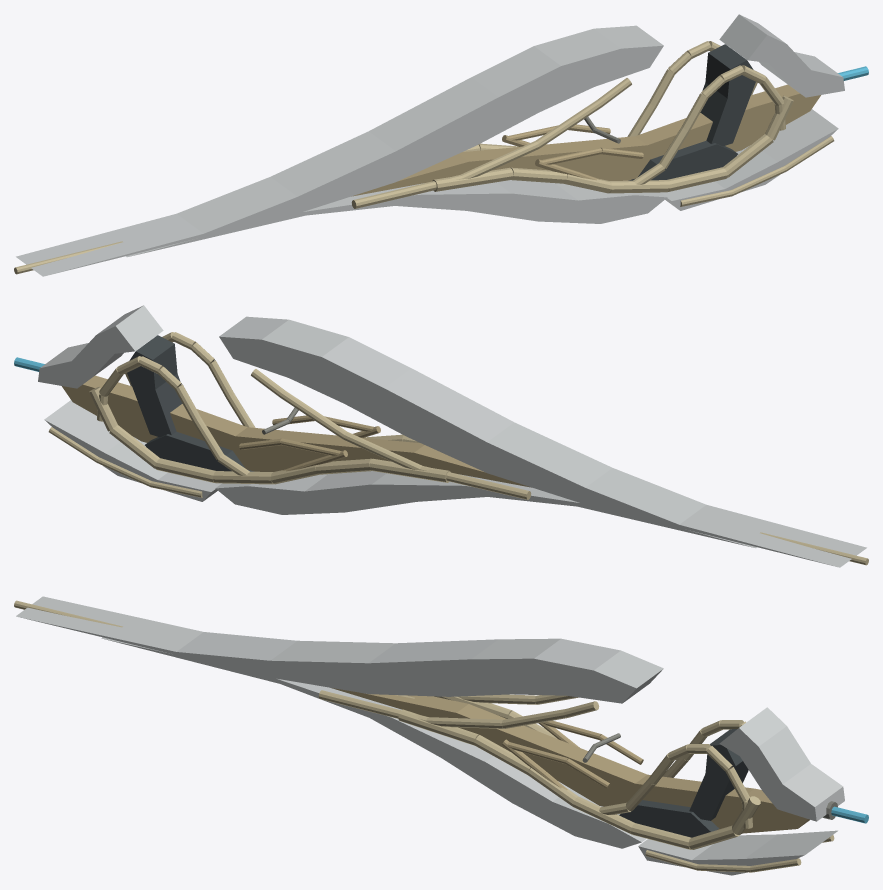
Rendered from ruch_white_flight.glb.
3 views of the same model, one above another, from view 1: azimuth 30°, elevation 25°; view 2: azimuth 150°, elevation 25°; view 3: azimuth 330°, elevation 25° (orthographic).
Visible parts, largest first — view 1: upper_blade_0, spine_3, lower_blade_1, gold_frame_8, rear_fairing_6, aft_lower_7, cockpit_arch_9, seat_back_5, seat_base_4, structural_braces_10, rear_rail_11; view 2: upper_blade_0, spine_3, lower_blade_1, gold_frame_8, rear_fairing_6, aft_lower_7, cockpit_arch_9, seat_back_5, seat_base_4, structural_braces_10, rear_rail_11; view 3: upper_blade_0, spine_3, gold_frame_8, lower_blade_1, rear_fairing_6, aft_lower_7, cockpit_arch_9, seat_back_5, structural_braces_10, seat_base_4, rear_rail_11.
Boxes of the visible parts, x1,y1,x2,y2 form: upper_blade_0: [16, 25, 663, 276]; spine_3: [351, 84, 820, 196]; lower_blade_1: [126, 180, 667, 257]; gold_frame_8: [351, 78, 793, 208]; rear_fairing_6: [719, 14, 844, 97]; aft_lower_7: [661, 109, 838, 210]; cockpit_arch_9: [627, 41, 785, 184]; seat_back_5: [700, 44, 755, 146]; seat_base_4: [628, 140, 737, 180]; structural_braces_10: [502, 124, 643, 180]; rear_rail_11: [680, 136, 834, 206]; upper_blade_0: [219, 316, 866, 567]; spine_3: [62, 375, 531, 487]; lower_blade_1: [215, 471, 756, 548]; gold_frame_8: [89, 369, 531, 499]; rear_fairing_6: [38, 305, 163, 388]; aft_lower_7: [44, 400, 221, 501]; cockpit_arch_9: [97, 332, 255, 475]; seat_back_5: [127, 335, 182, 437]; seat_base_4: [145, 431, 254, 471]; structural_braces_10: [239, 415, 380, 471]; rear_rail_11: [48, 427, 202, 497]; upper_blade_0: [16, 596, 663, 703]; spine_3: [330, 687, 809, 833]; gold_frame_8: [318, 690, 760, 849]; lower_blade_1: [101, 637, 646, 848]; rear_fairing_6: [719, 707, 844, 821]; aft_lower_7: [638, 830, 837, 875]; cockpit_arch_9: [599, 720, 752, 828]; seat_back_5: [689, 729, 748, 820]; structural_braces_10: [502, 720, 643, 790]; seat_base_4: [619, 800, 718, 837]; rear_rail_11: [645, 835, 834, 872].
Size of the model in its own units: 9.52 by 1.86 by 0.76.
